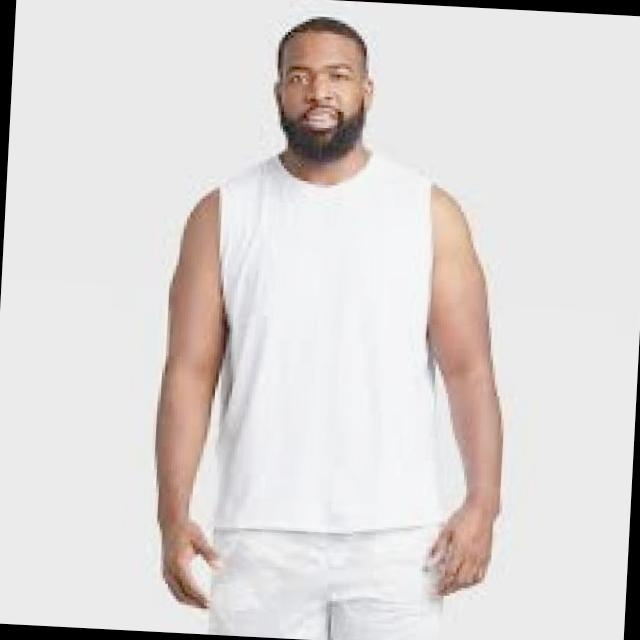no_vest: (202, 140, 467, 538)
